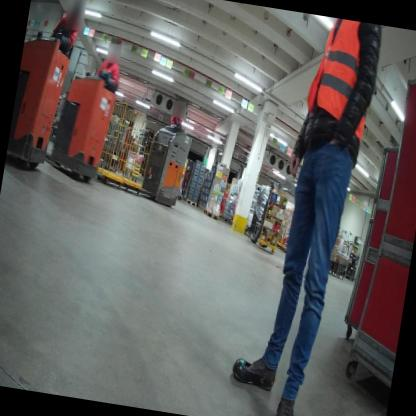pallet: (201, 208, 222, 223), (180, 196, 198, 210), (219, 214, 228, 221), (197, 202, 202, 210), (199, 206, 205, 212)
pallet_truck: (33, 64, 124, 193), (4, 23, 81, 175), (95, 111, 199, 212)
